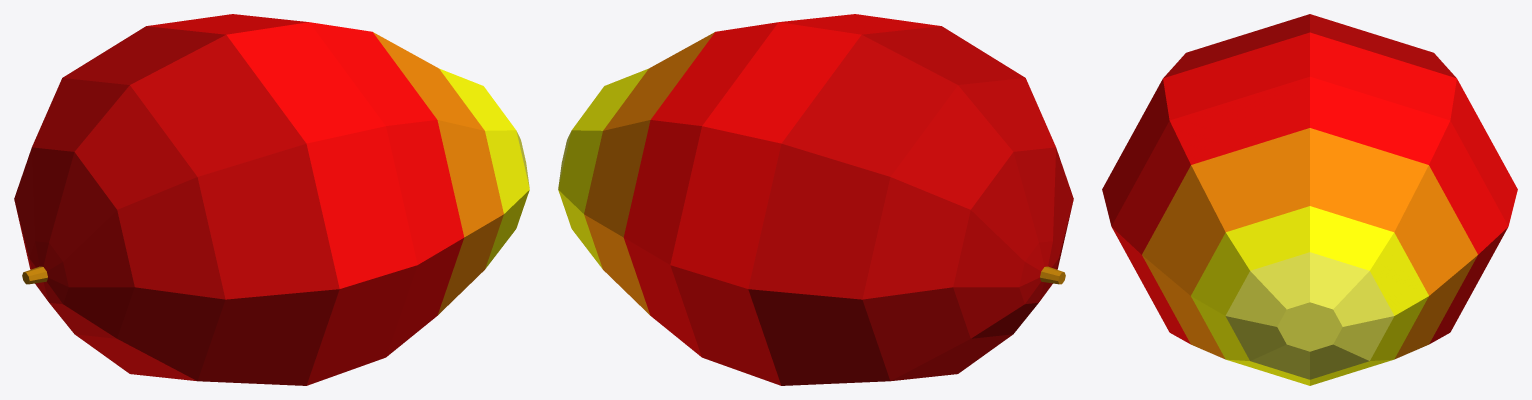
The model's file is mango01.gltf.
3 renders of one model, left to right at view 1: azimuth 30°, elevation 25°; view 2: azimuth 150°, elevation 25°; view 3: azimuth 270°, elevation 25°, orthographic. The views are drawn at different scales.
Parts seen in each view (by area): view 1: Cylinder; view 2: Cylinder; view 3: Cylinder.
Part boxes in pixels (box(x1,y1,x2,y2)): Cylinder: box(14, 14, 529, 385); Cylinder: box(558, 14, 1073, 385); Cylinder: box(1102, 14, 1517, 385).
Size of the model in its own units: 0.1172 by 0.0796 by 0.0955.
1 material, 1 textured.
